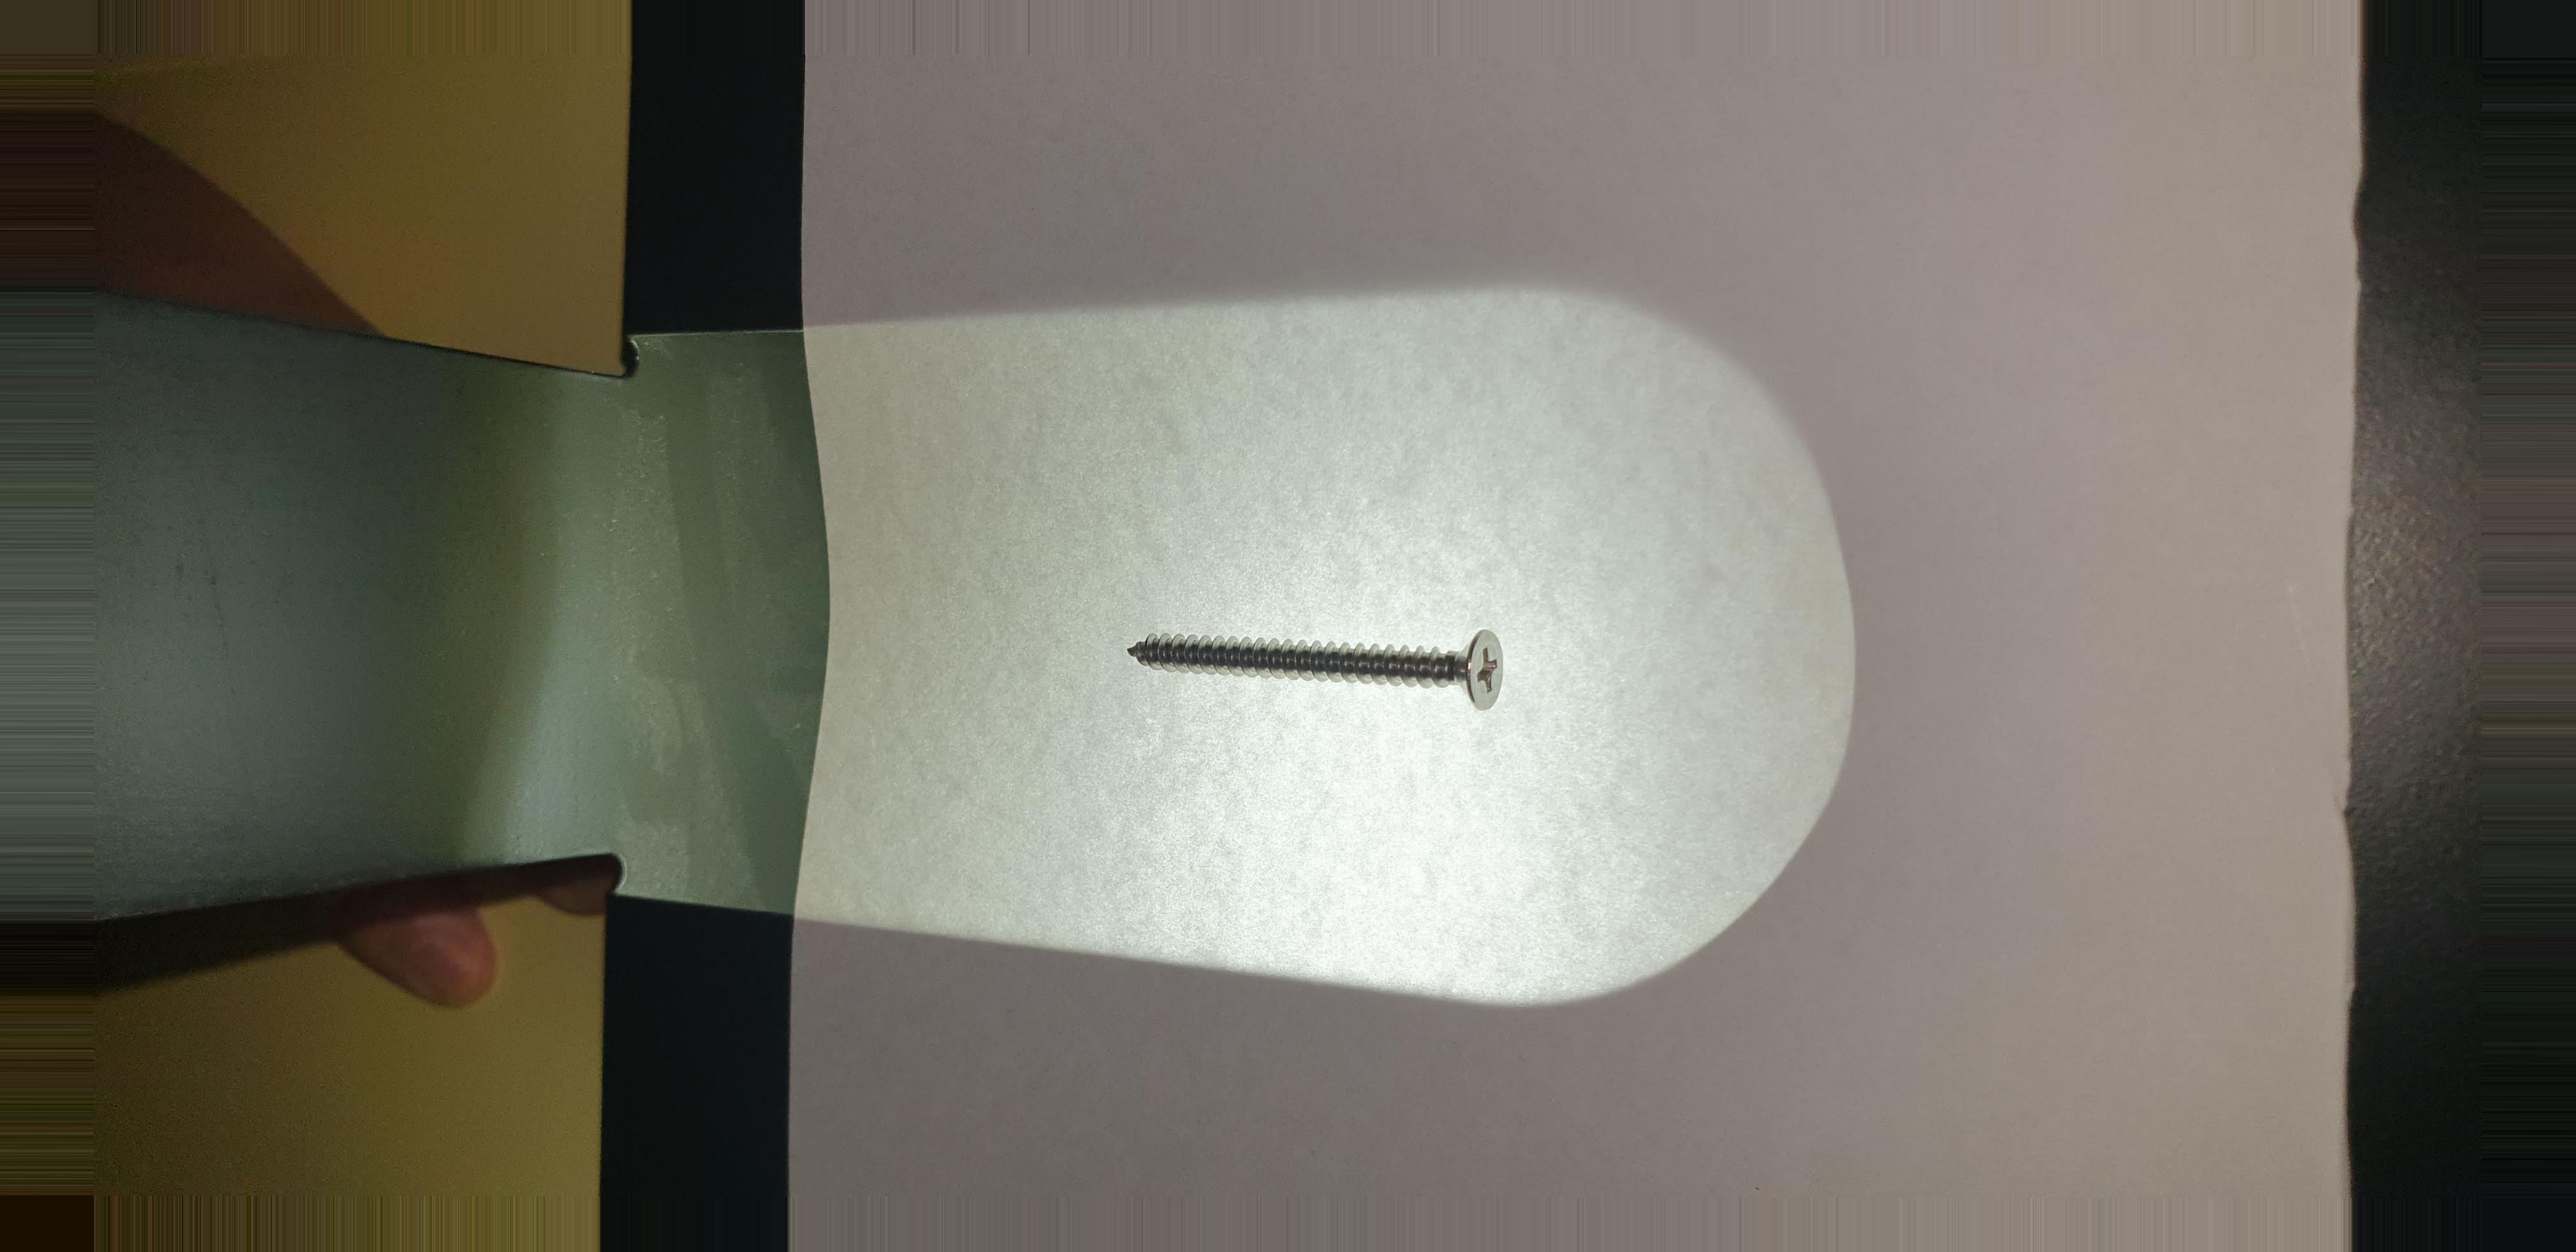fastener: (1096, 608, 1556, 730)
